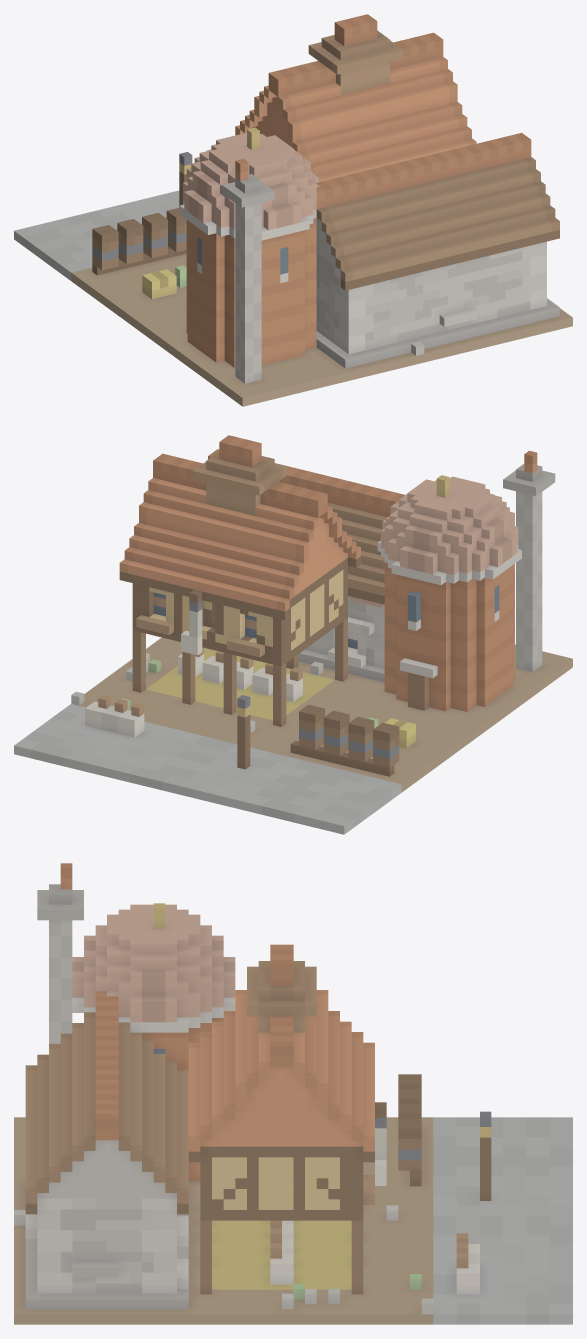
The model's file is grain_distillery.glb.
3 renders of one model, top to bottom at view 1: azimuth 30°, elevation 25°; view 2: azimuth 150°, elevation 25°; view 3: azimuth 270°, elevation 25°, orthographic. The views are drawn at different scales.
Parts seen in each view (by area): view 1: grain_distillery; view 2: grain_distillery; view 3: grain_distillery.
Part boxes in pixels (<box>): grain_distillery: <box>14,14,572,406</box>; grain_distillery: <box>14,435,572,834</box>; grain_distillery: <box>14,863,572,1324</box>.
Size of the model in its own units: 5 by 3.62 by 6.
